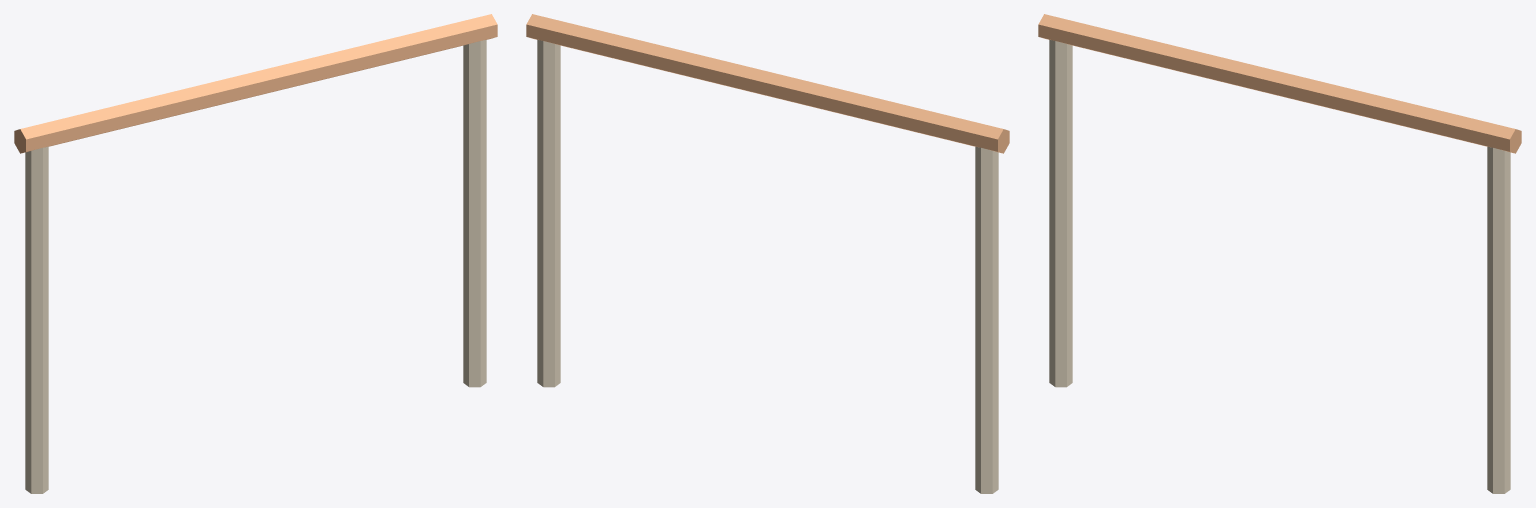
3 renders of one model, left to right at view 1: azimuth 30°, elevation 25°; view 2: azimuth 150°, elevation 25°; view 3: azimuth 330°, elevation 25°, orthographic.
Visible parts, largest first — view 1: Bar, Post.001, Post; view 2: Bar, Post.001, Post; view 3: Bar, Post, Post.001.
Boxes of the visible parts, left/top/right/bottom form: Bar: left=14, top=14, right=497, bottom=153; Post.001: left=463, top=39, right=486, bottom=387; Post: left=25, top=146, right=48, bottom=493; Bar: left=526, top=14, right=1009, bottom=153; Post.001: left=537, top=39, right=560, bottom=387; Post: left=975, top=146, right=998, bottom=493; Bar: left=1038, top=14, right=1521, bottom=153; Post: left=1049, top=39, right=1072, bottom=387; Post.001: left=1487, top=146, right=1510, bottom=493.
Bounding box in the file's own units: 1.4 × 1.04 × 0.0606.
Materials: 1 (1 with a texture image).
